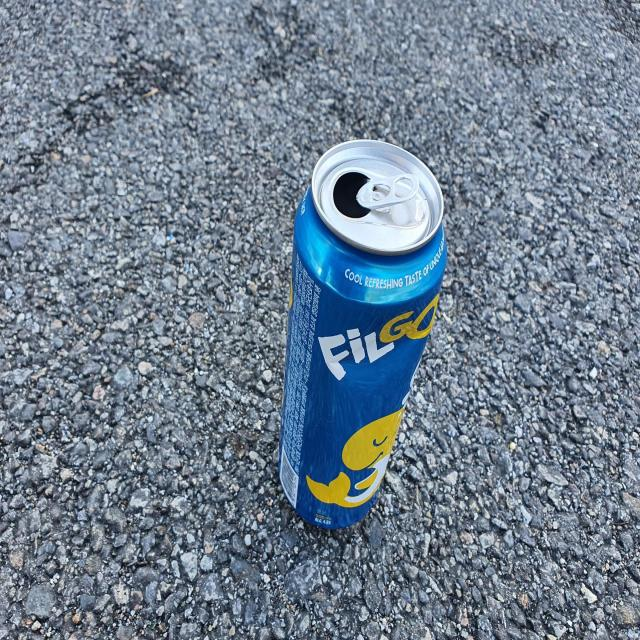can: (279, 139, 447, 529)
